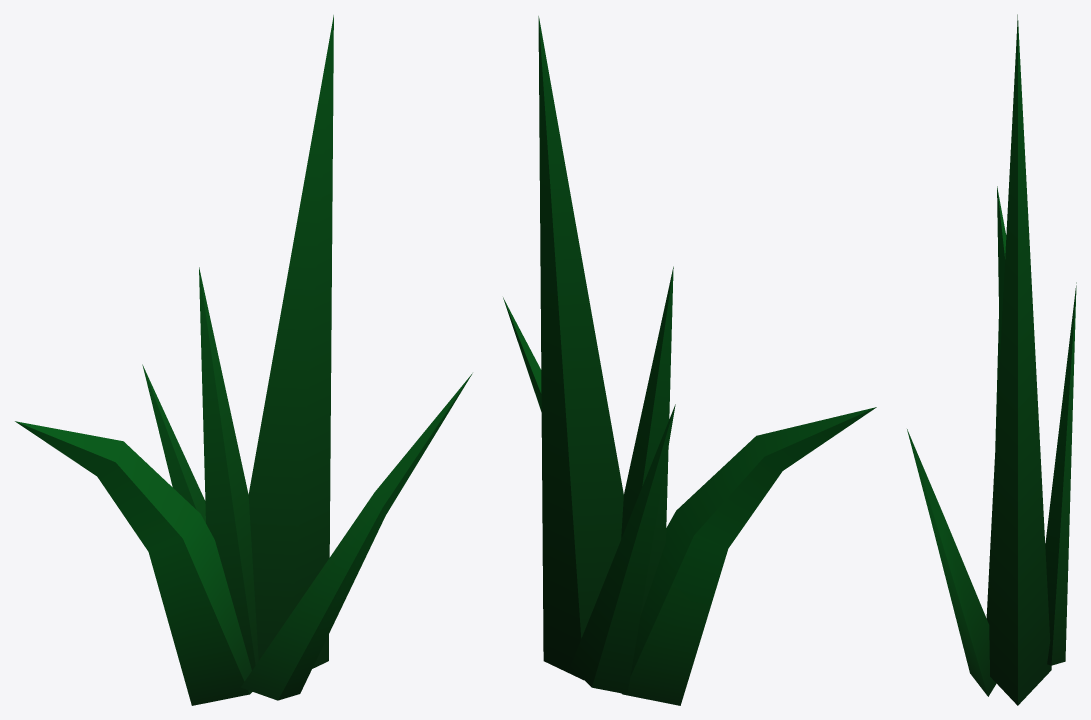
Rendered from Grass 4.fbx.
The picture shows the model from 3 angles, left to right: view 1: azimuth 30°, elevation 25°; view 2: azimuth 150°, elevation 25°; view 3: azimuth 270°, elevation 25°; orthographic projection. The views are drawn at different scales.
Visible parts, largest first — view 1: pCone30; view 2: pCone30; view 3: pCone30.
Part boxes in pixels (x1,y1,x2,y2): pCone30: (15, 15, 472, 705); pCone30: (503, 16, 876, 705); pCone30: (907, 14, 1076, 705).
Size of the model in its own units: 1.5 by 2.26 by 0.4927.
